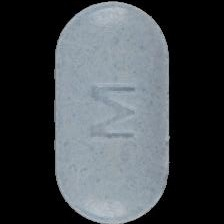53808-0280: (0, 0, 224, 224)
